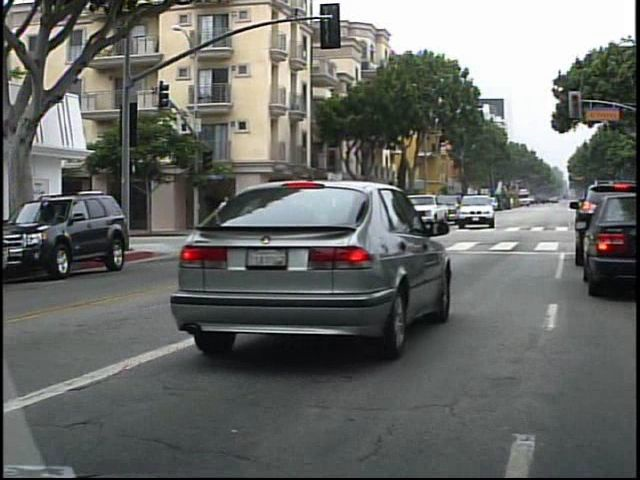person: (215, 191, 234, 238), (235, 194, 254, 235)
